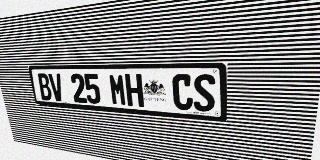2: (70, 74, 87, 103)
5: (84, 74, 102, 104)
B: (37, 73, 53, 101)
C: (172, 74, 193, 111)
H: (125, 74, 144, 107)
M: (108, 74, 127, 106)
S: (193, 74, 215, 112)
V: (48, 73, 65, 101)
